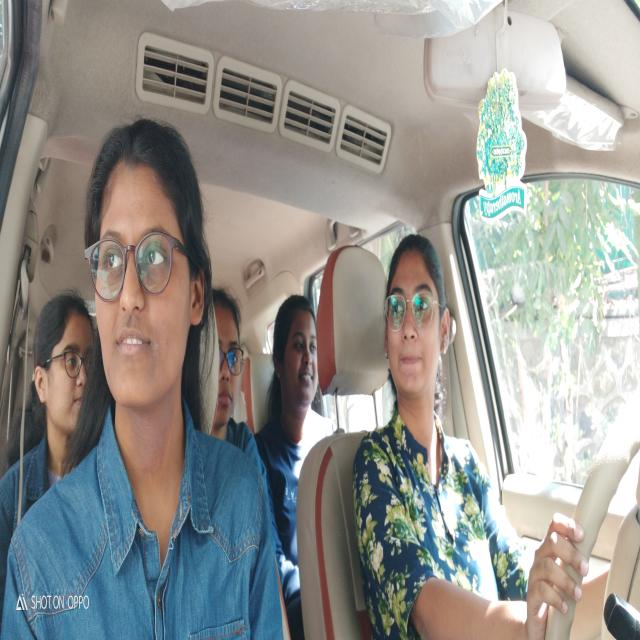LeftRight: (385, 231, 450, 406)
person: (79, 121, 207, 411), (25, 293, 97, 432), (272, 294, 320, 428), (210, 287, 244, 431)
